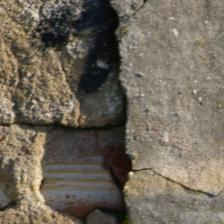Crack: (66, 83, 154, 119)
